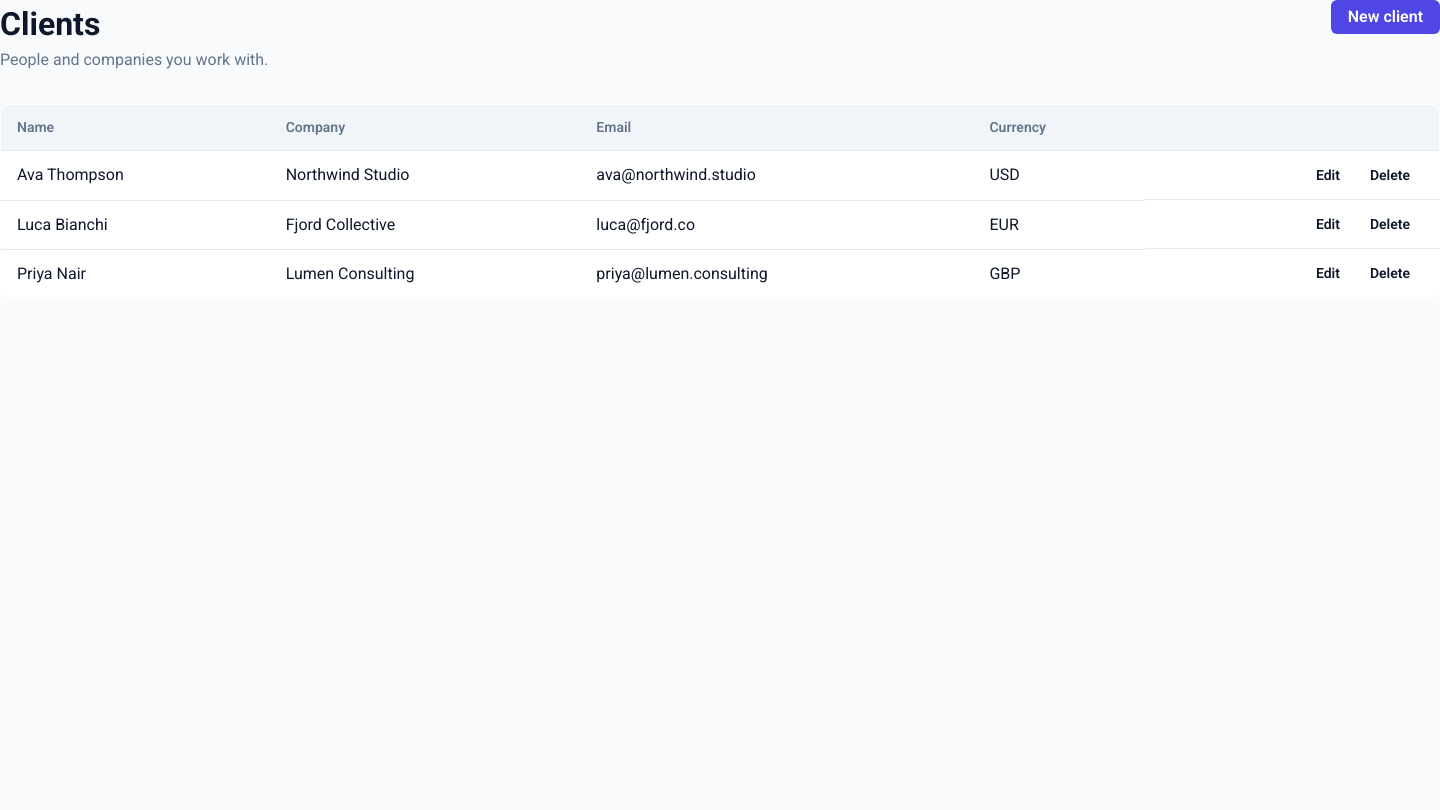
Test: ClientsPage — editing › sends nothing at all when the form is submitted unchanged
expect the text "Northwind Studio" is shown: met, box [270, 151, 580, 200]
Click the button with aria-label "Edit Luca Bianchi". click: coordinates (1328, 224)
box: [1303, 212, 1353, 236]
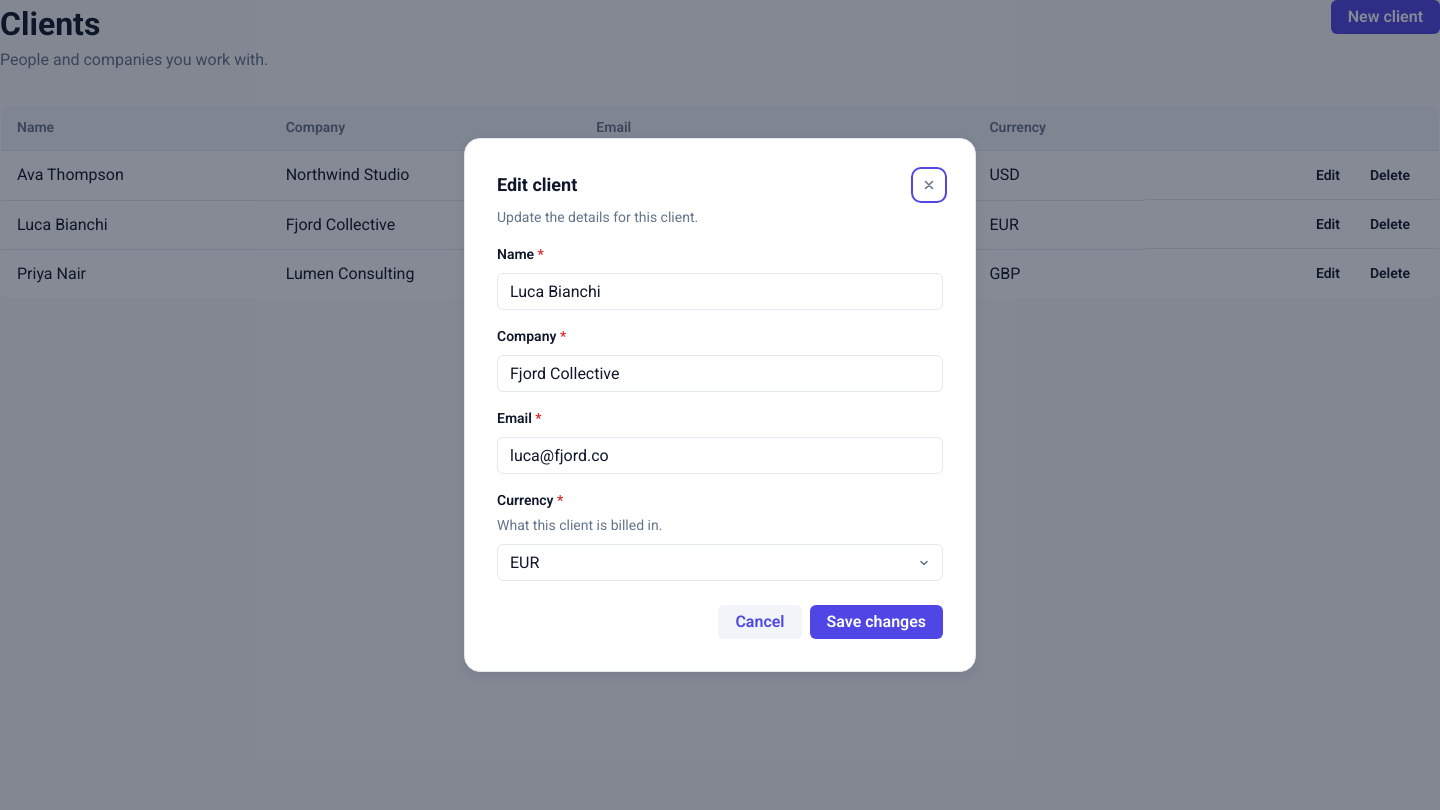
Click the button "Save changes". click: coordinates (876, 622)
box: [810, 605, 943, 639]
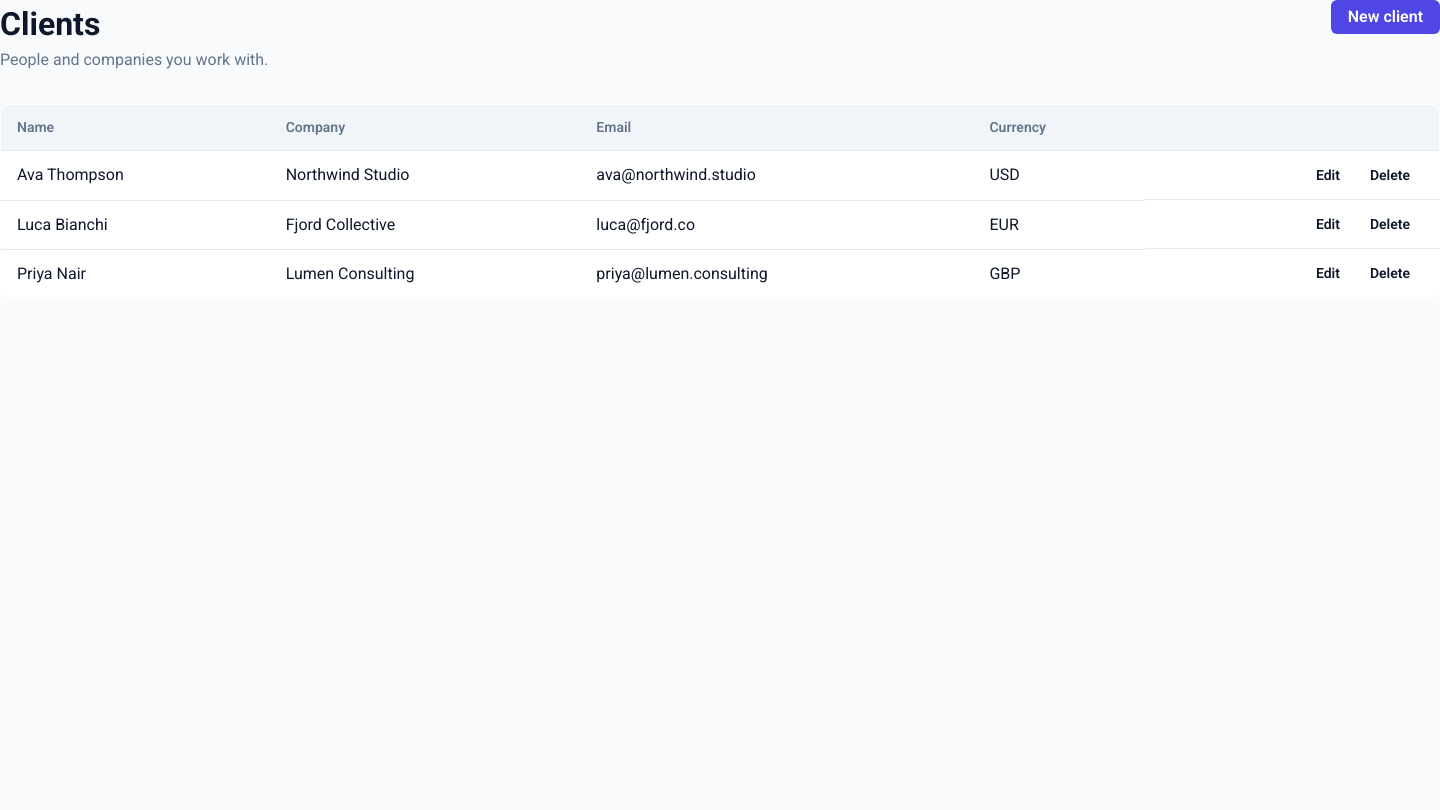
expect the text "Fjord Collective" is shown: met, box [270, 200, 580, 249]
expect the dialog is gone: met
